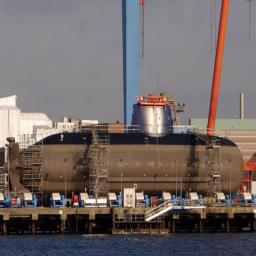submarine: (4, 106, 246, 196)
